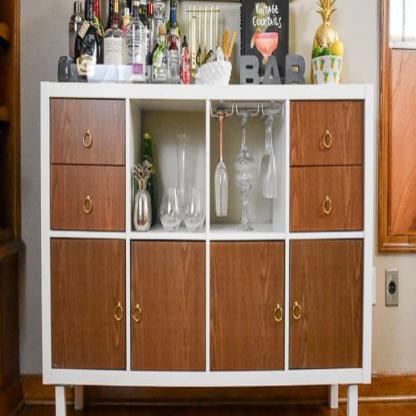lamp: (38, 78, 376, 415)
